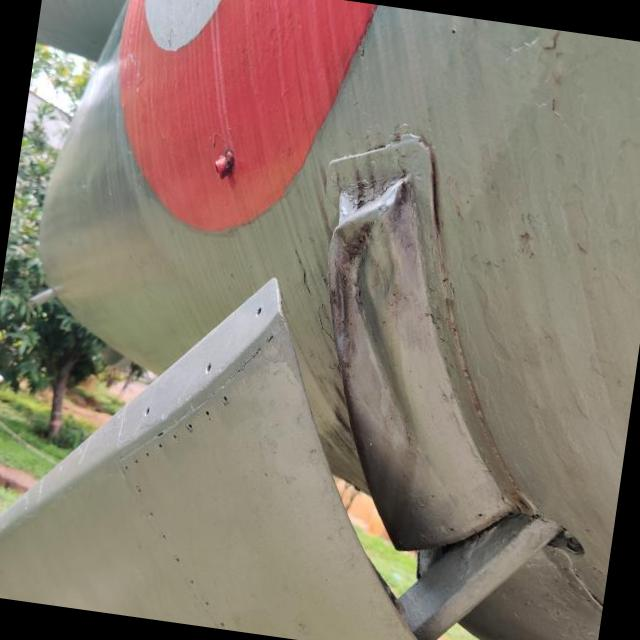Dent: (328, 160, 459, 490)
